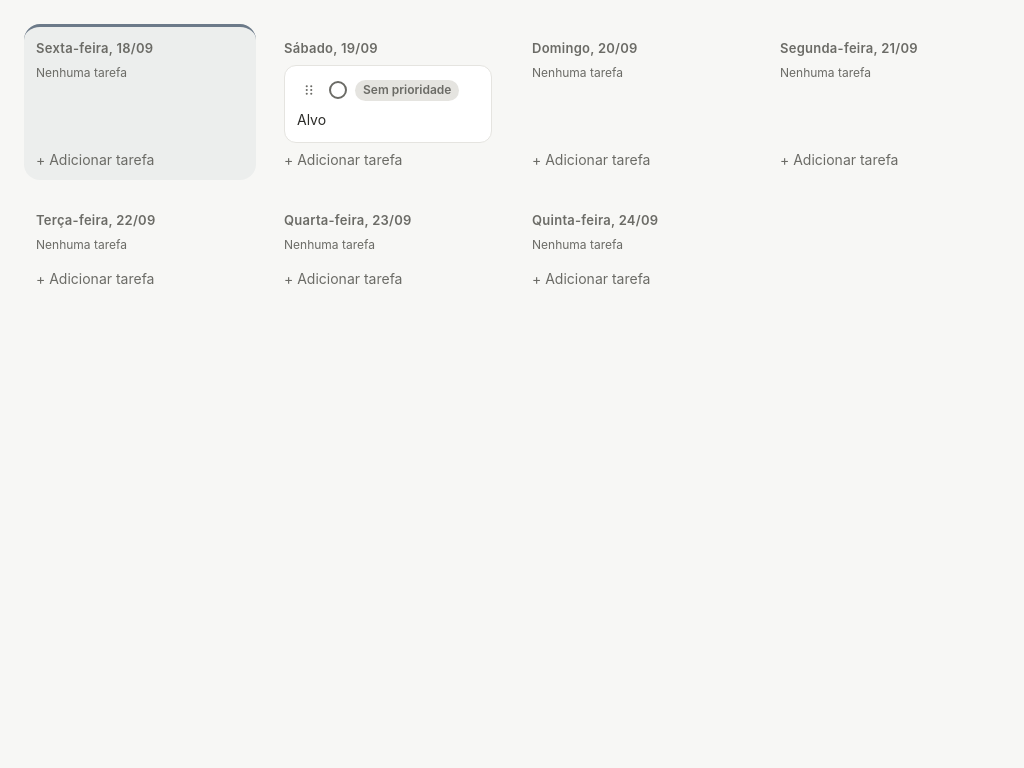
WeekView › Rollover automático de tarefas atrasadas (Story 5.4) › modal de edição aberto atravessando a meia-noite: o select de Dia passa a listar a janela atual
Click the text "Alvo". click: (312,120)
box: 297,110 -> 326,130
Wait 60000 ms
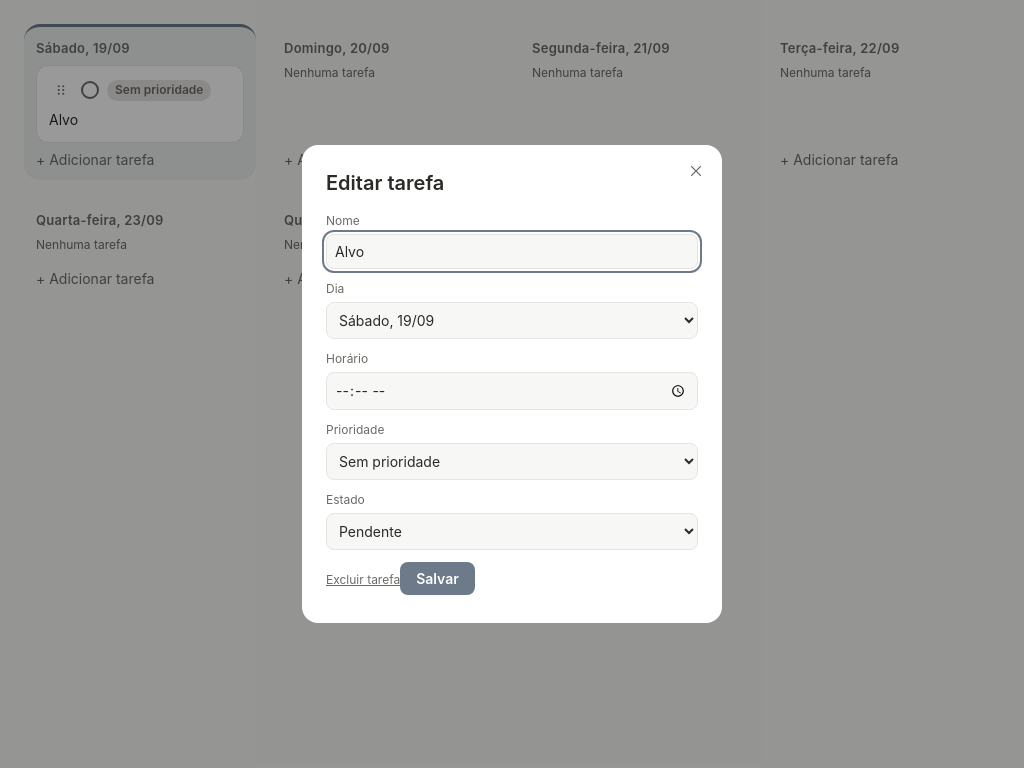
Check: the dialog is shown, box 302,145 -> 722,623
